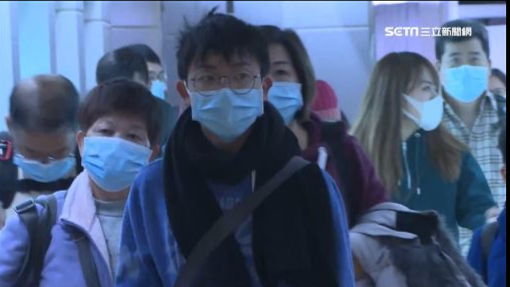with_mask: (184, 60, 263, 139), (81, 117, 154, 189), (438, 45, 490, 100), (12, 140, 77, 183), (266, 53, 304, 125), (404, 77, 445, 133)
